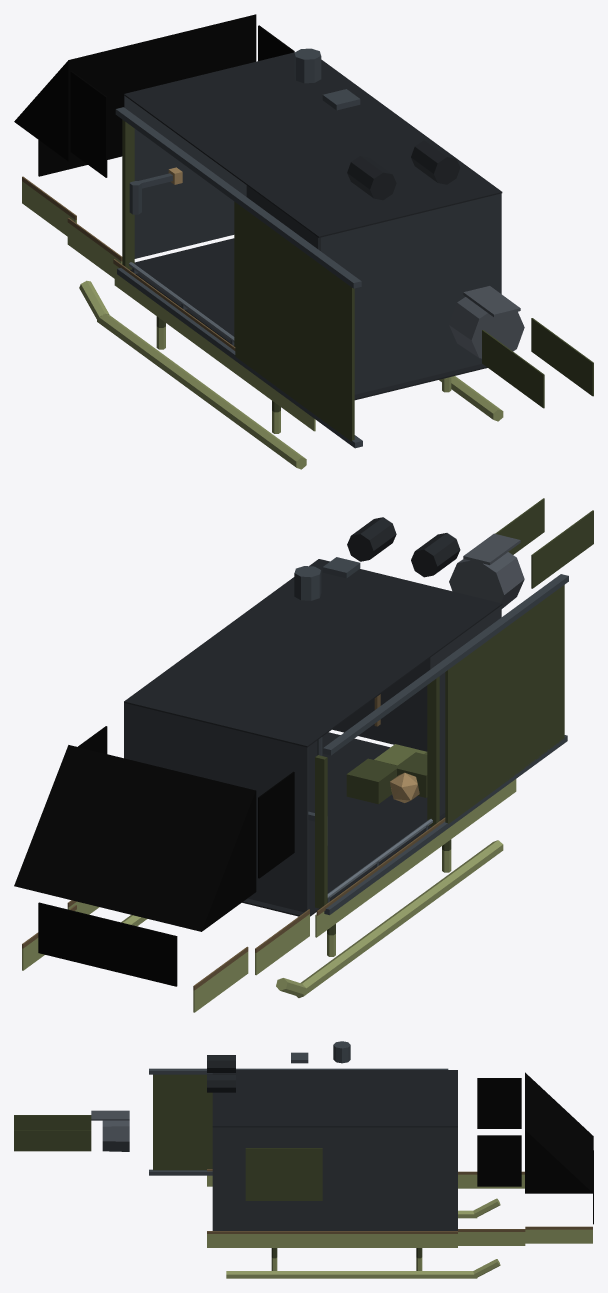
The model's file is veh_lantern_trim.fbx.
3 views of the same model, one above another, from view 1: azimuth 30°, elevation 25°; view 2: azimuth 150°, elevation 25°; view 3: azimuth 270°, elevation 25° (orthographic). The views are drawn at different scales.
Parts seen in each view (by area): view 1: veh_lantern_trim; view 2: veh_lantern_trim; view 3: veh_lantern_trim.
Part boxes in pixels (x1=…): veh_lantern_trim: x1=14, y1=14, x2=593, y2=469; veh_lantern_trim: x1=14, y1=498, x2=593, y2=1012; veh_lantern_trim: x1=14, y1=1041, x2=593, y2=1278.
Bounding box in the file's own units: 794 × 1165 × 3005.
